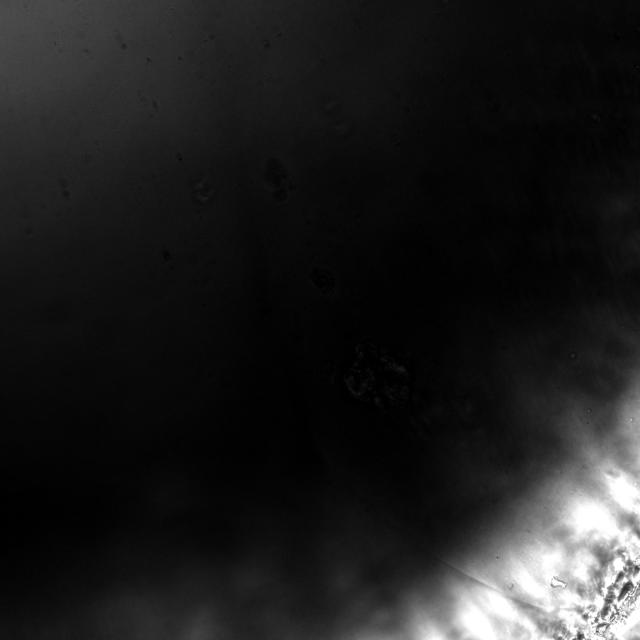organoid: (342, 340, 411, 408)
